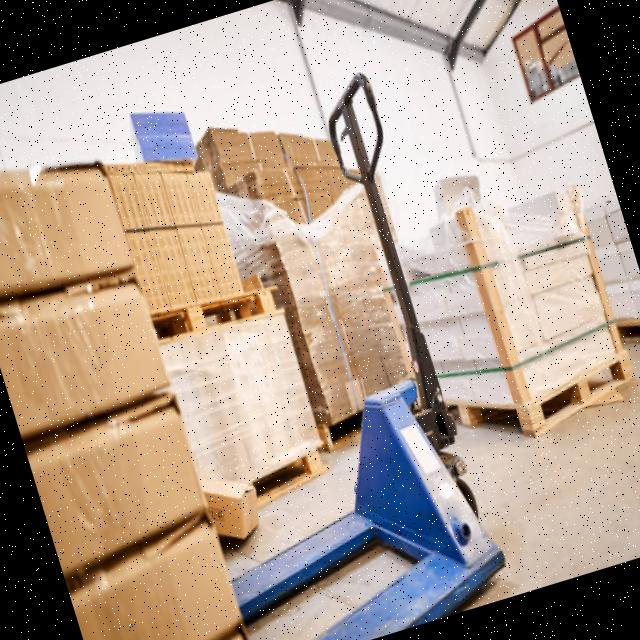Wooden-Pallets: (520, 347, 640, 439), (153, 281, 288, 345)
